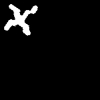single_crochet: (4, 4, 37, 34)
